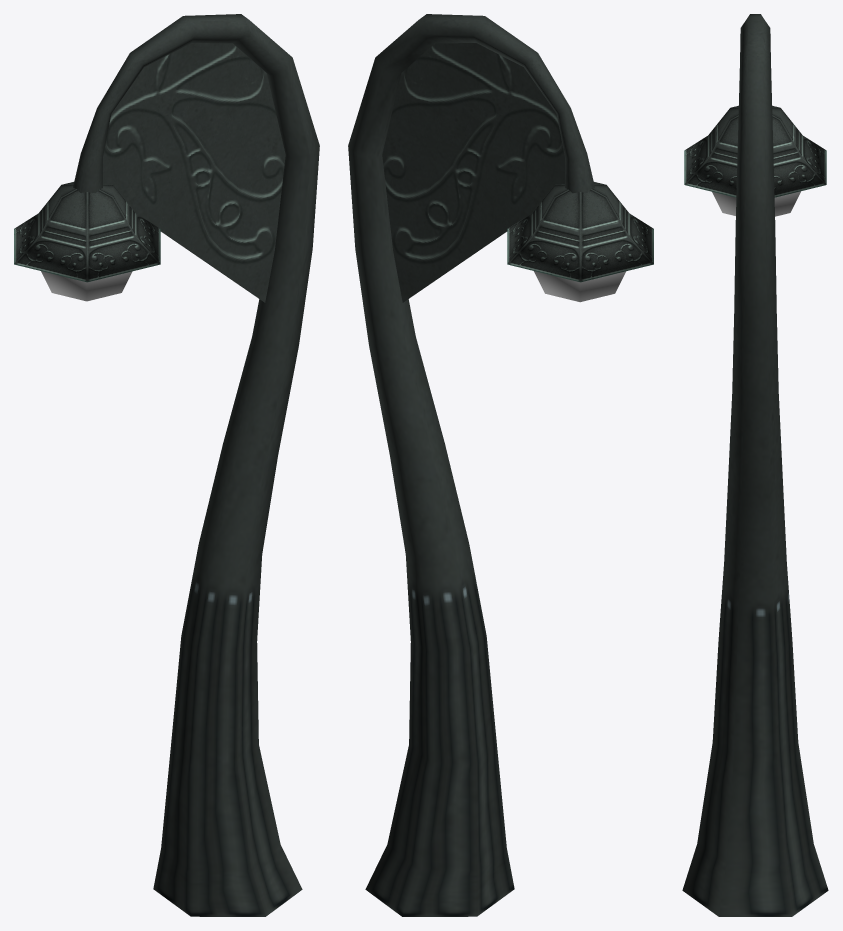
The model's file is streetlight_01.fbx.
3 renders of one model, left to right at view 1: azimuth 30°, elevation 25°; view 2: azimuth 150°, elevation 25°; view 3: azimuth 270°, elevation 25°, orthographic. The views are drawn at different scales.
Visible parts, largest first — view 1: polySurface71; view 2: polySurface71; view 3: polySurface71.
Part boxes in pixels (x1=…): polySurface71: x1=14, y1=14, x2=319, y2=916; polySurface71: x1=348, y1=14, x2=653, y2=916; polySurface71: x1=682, y1=14, x2=828, y2=916.
Size of the model in its own units: 41.05 by 115 by 17.83.
